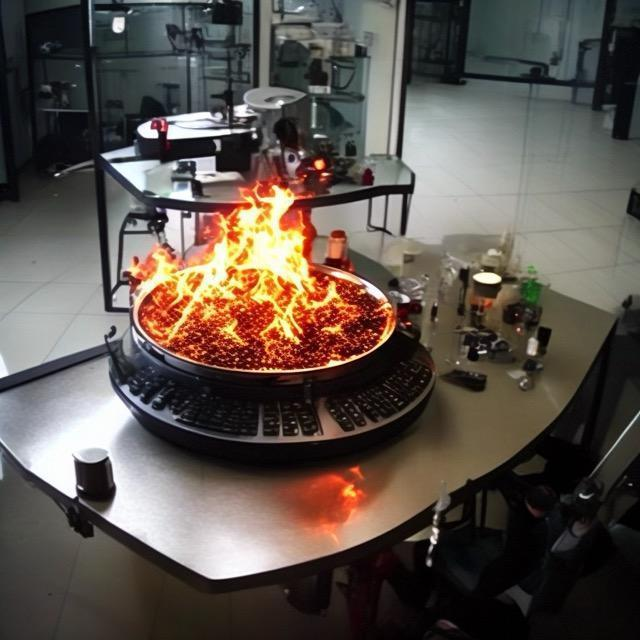smoke: (147, 153, 391, 368)
